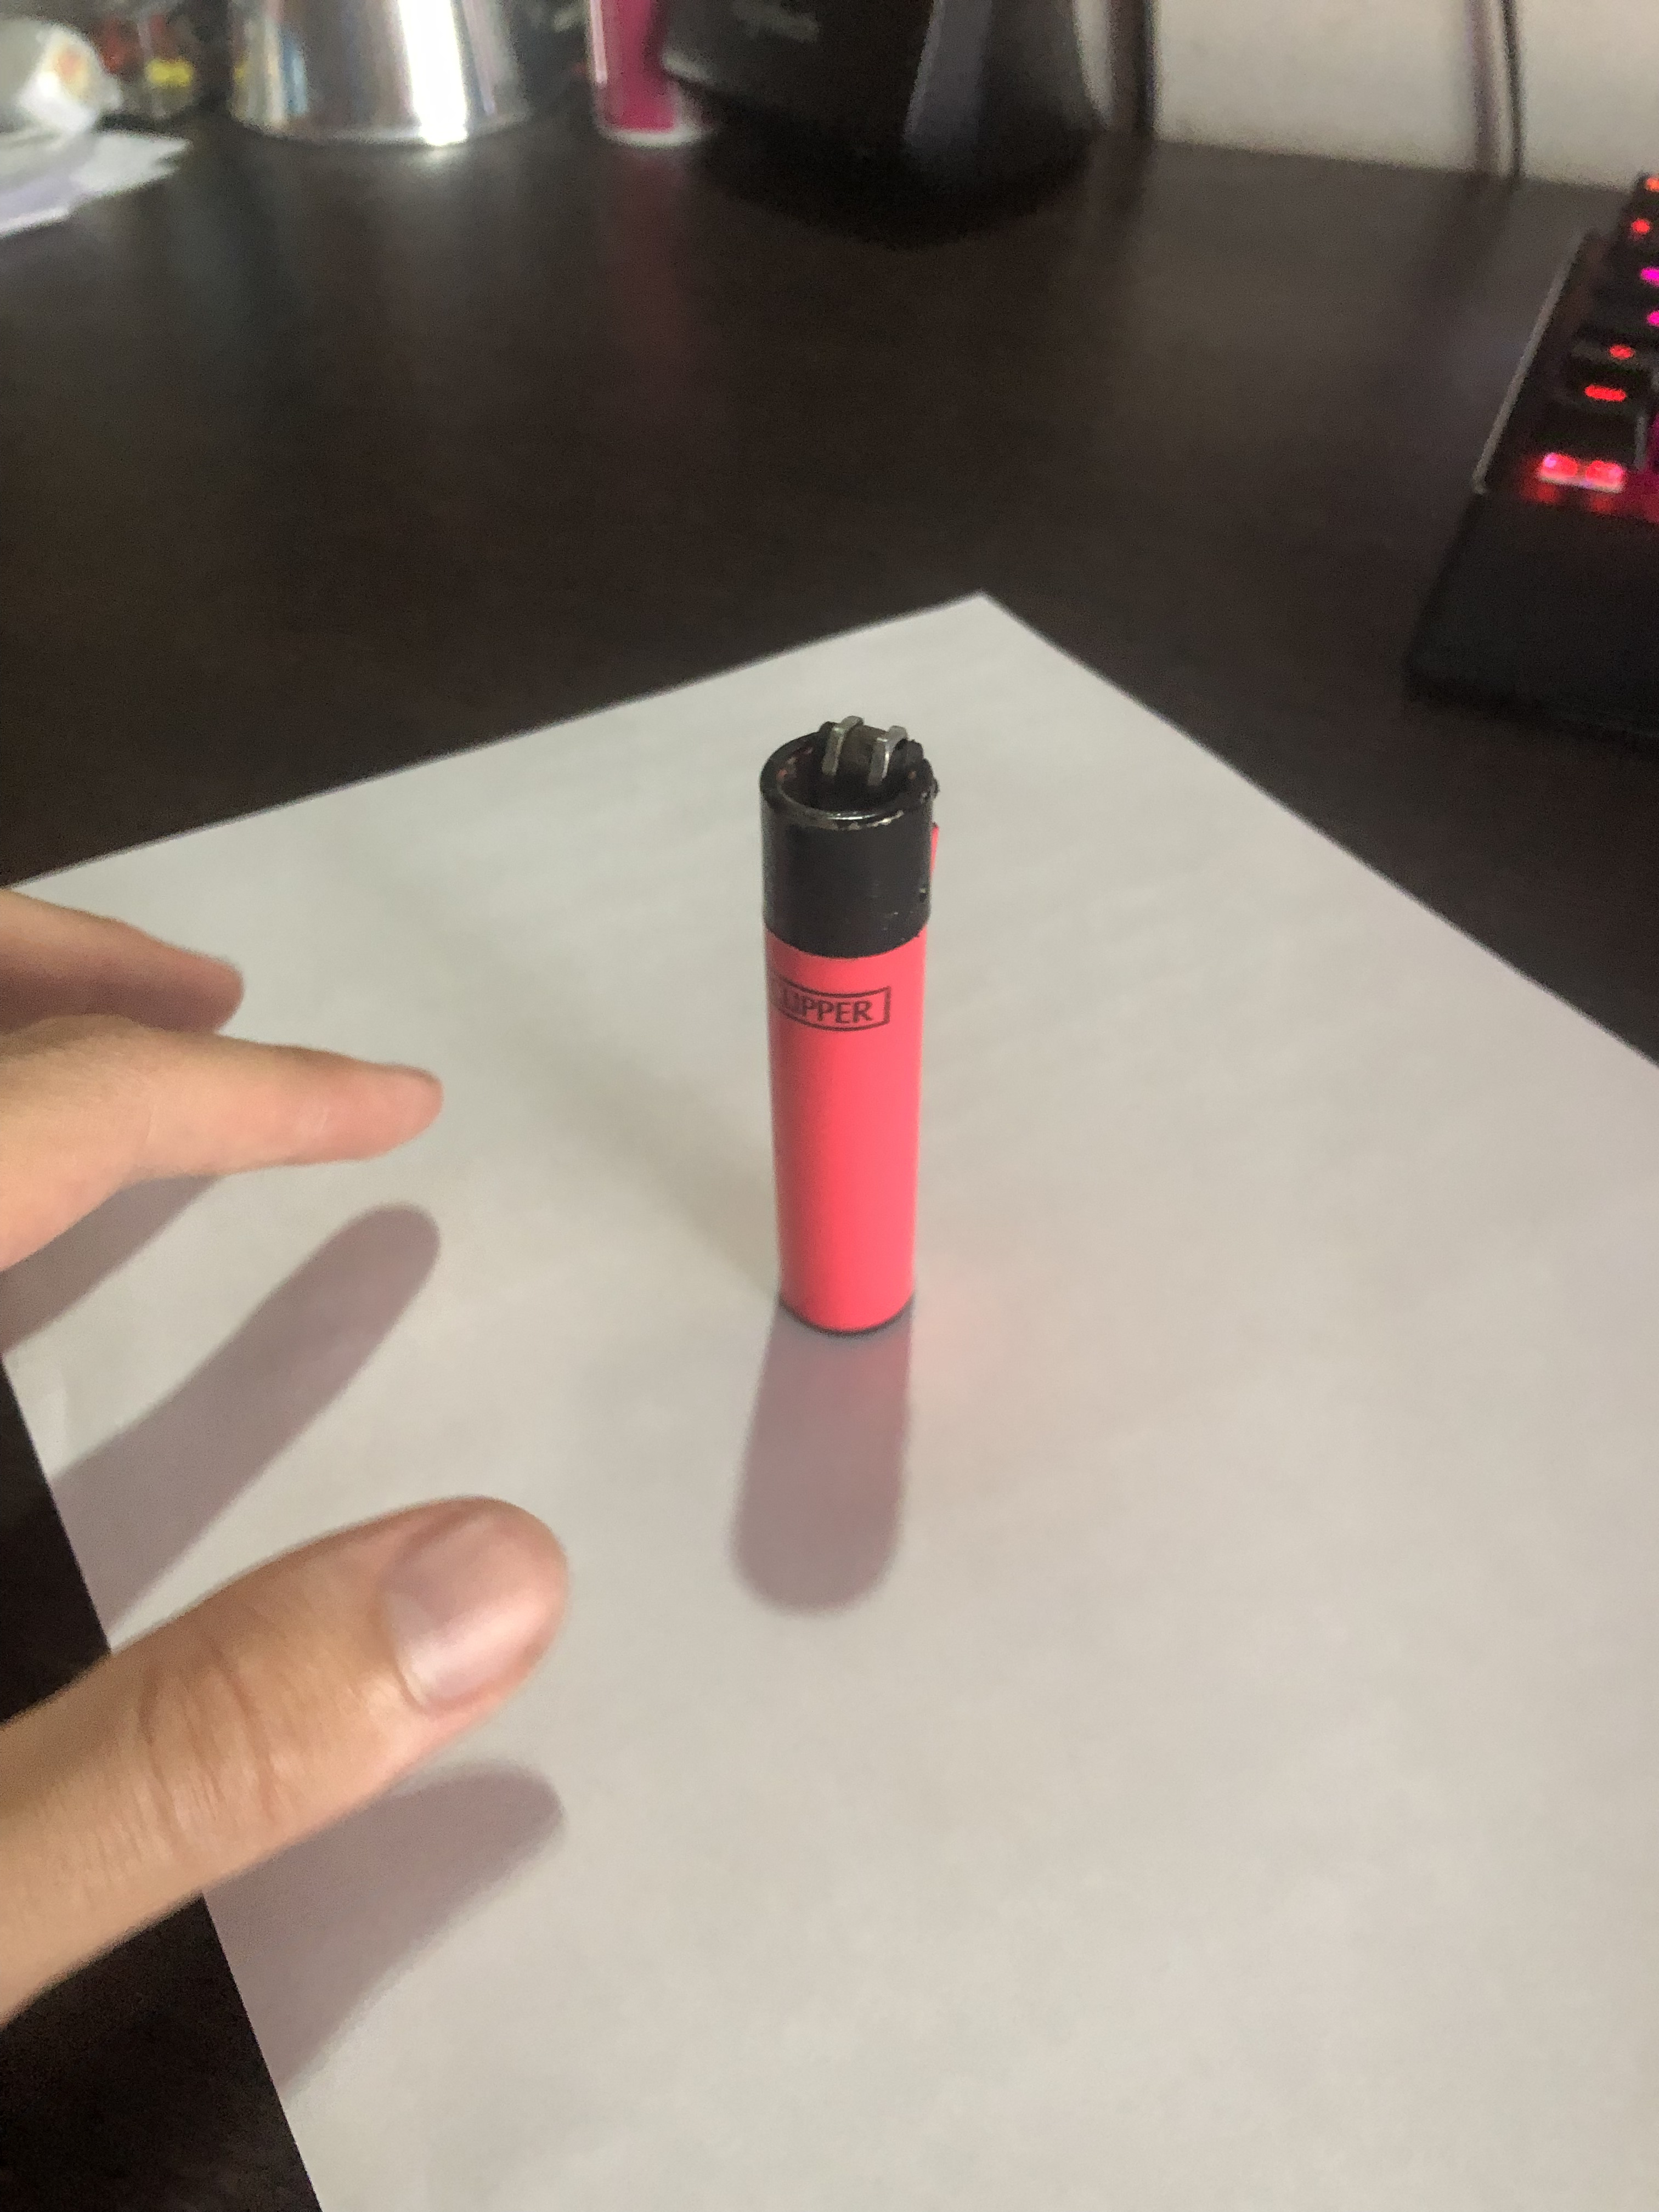Mechero: (751, 732, 939, 1336)
